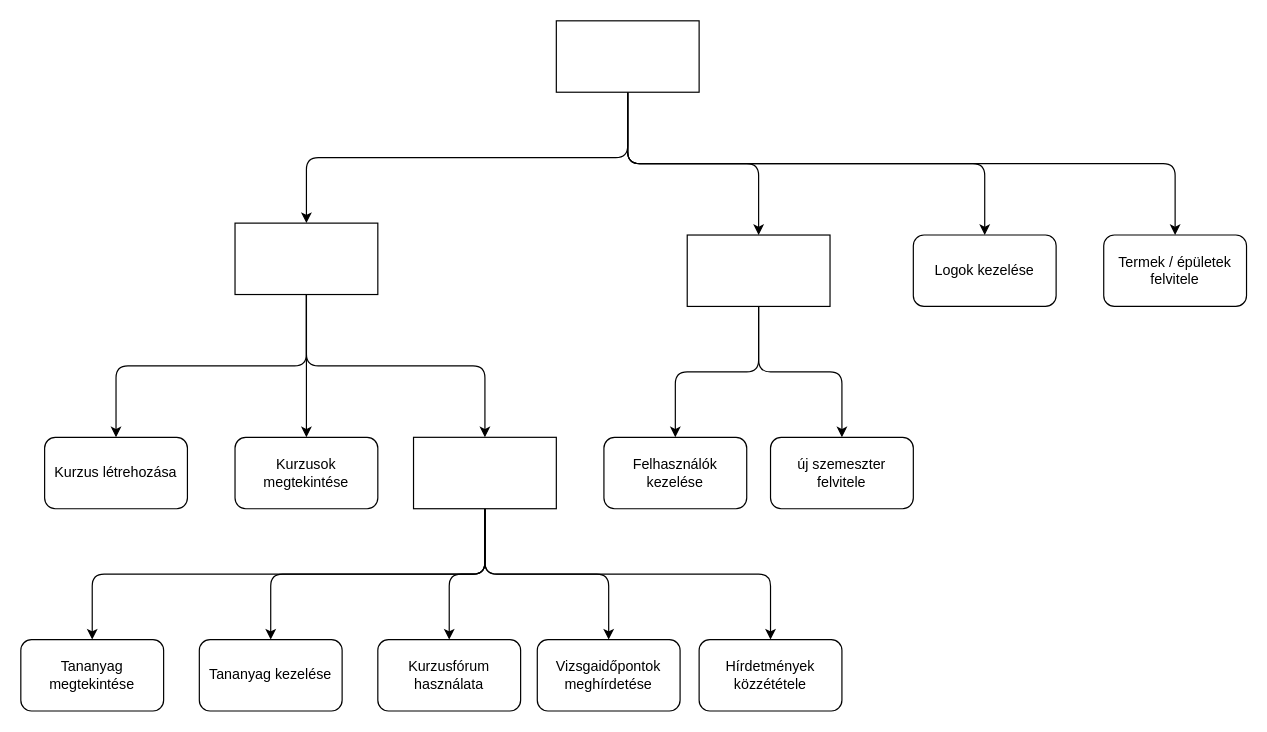
This 1267x732 diagram has some shape labels left out. The centre of each missing label's shape, as x and y in pixels:
Admin menü: the point at 627,56
Egy Kurzus menüje: the point at 484,472
Felhasználók menü: the point at 758,270
Kurzusok menü: the point at 306,258
